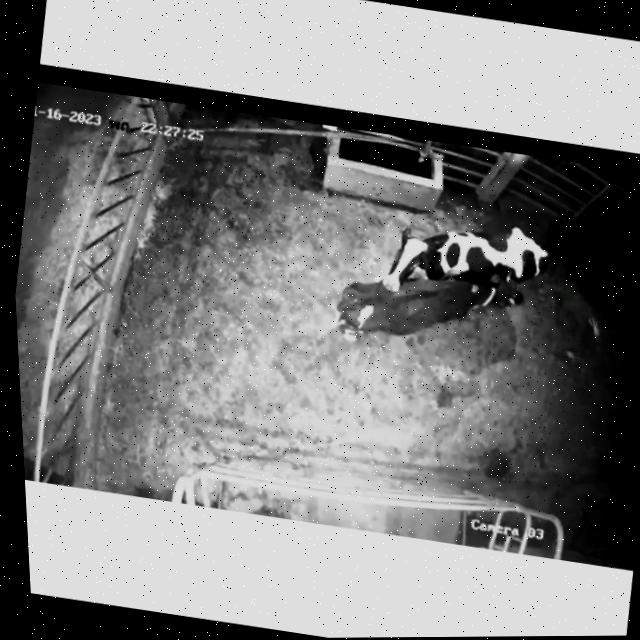propping: (358, 218, 451, 325)
